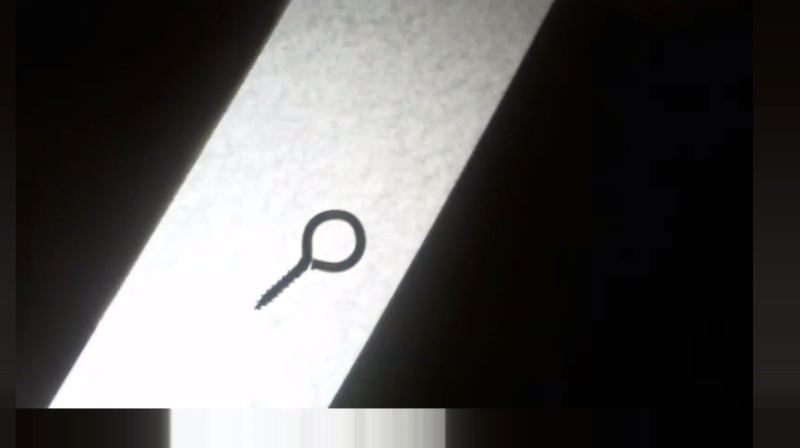O001: (250, 206, 368, 317)
